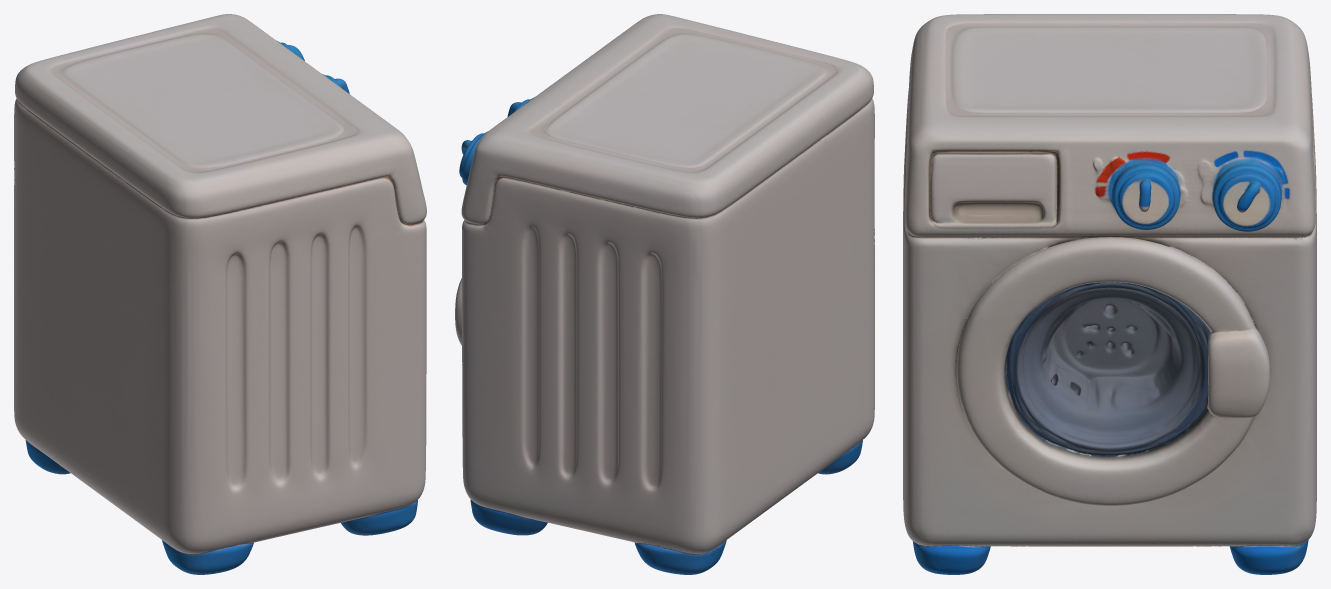
File: washer.glb
3 renders of one model, left to right at view 1: azimuth 30°, elevation 25°; view 2: azimuth 150°, elevation 25°; view 3: azimuth 270°, elevation 25°, orthographic. The views are drawn at different scales.
Visible parts, largest first — view 1: tripo_node_690b4999-5770-4002-a26f-26c1e8145d96; view 2: tripo_node_690b4999-5770-4002-a26f-26c1e8145d96; view 3: tripo_node_690b4999-5770-4002-a26f-26c1e8145d96.
Part boxes in pixels (box(x1,y1,x2,y2)): tripo_node_690b4999-5770-4002-a26f-26c1e8145d96: box(14, 14, 426, 574); tripo_node_690b4999-5770-4002-a26f-26c1e8145d96: box(455, 14, 874, 574); tripo_node_690b4999-5770-4002-a26f-26c1e8145d96: box(903, 14, 1316, 574).
Bounding box in the file's own units: 0.7196 × 1 × 0.8457.
Materials: 1 (1 with a texture image).
